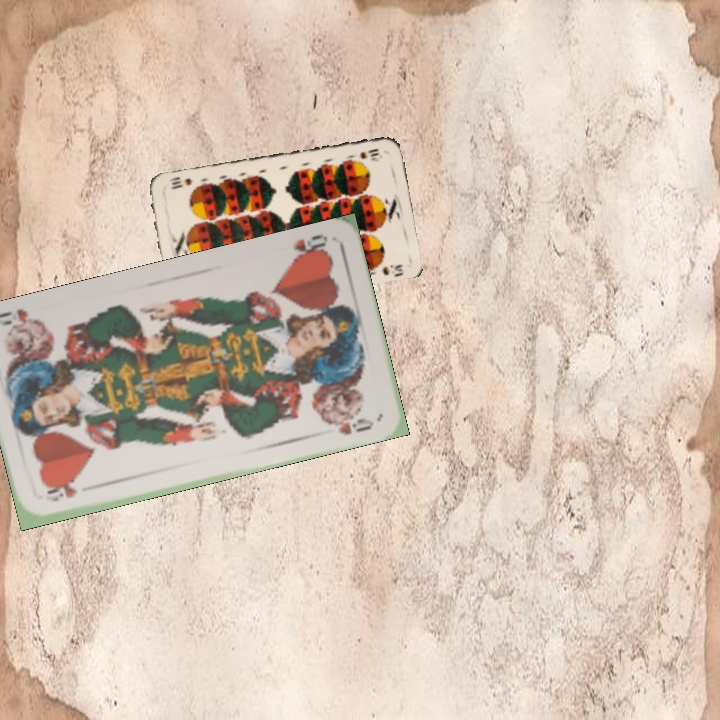HO: (289, 230, 331, 263), (41, 482, 81, 505)
S10: (355, 144, 382, 161)
